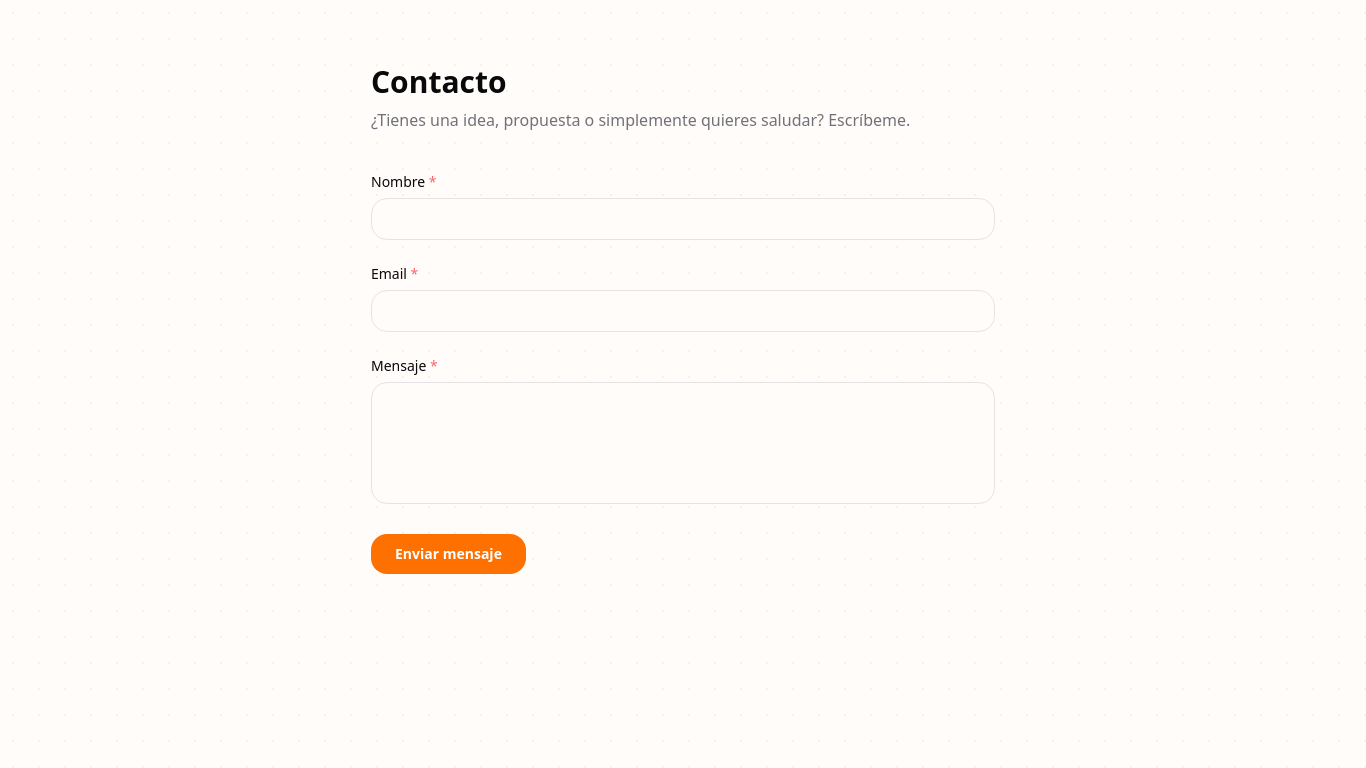
Test: Contact › shows validation error when name is too short
The width and height of the screenshot is (1366, 768).
Click the button "Enviar mensaje" at (448, 554), box [371,534,526,574]
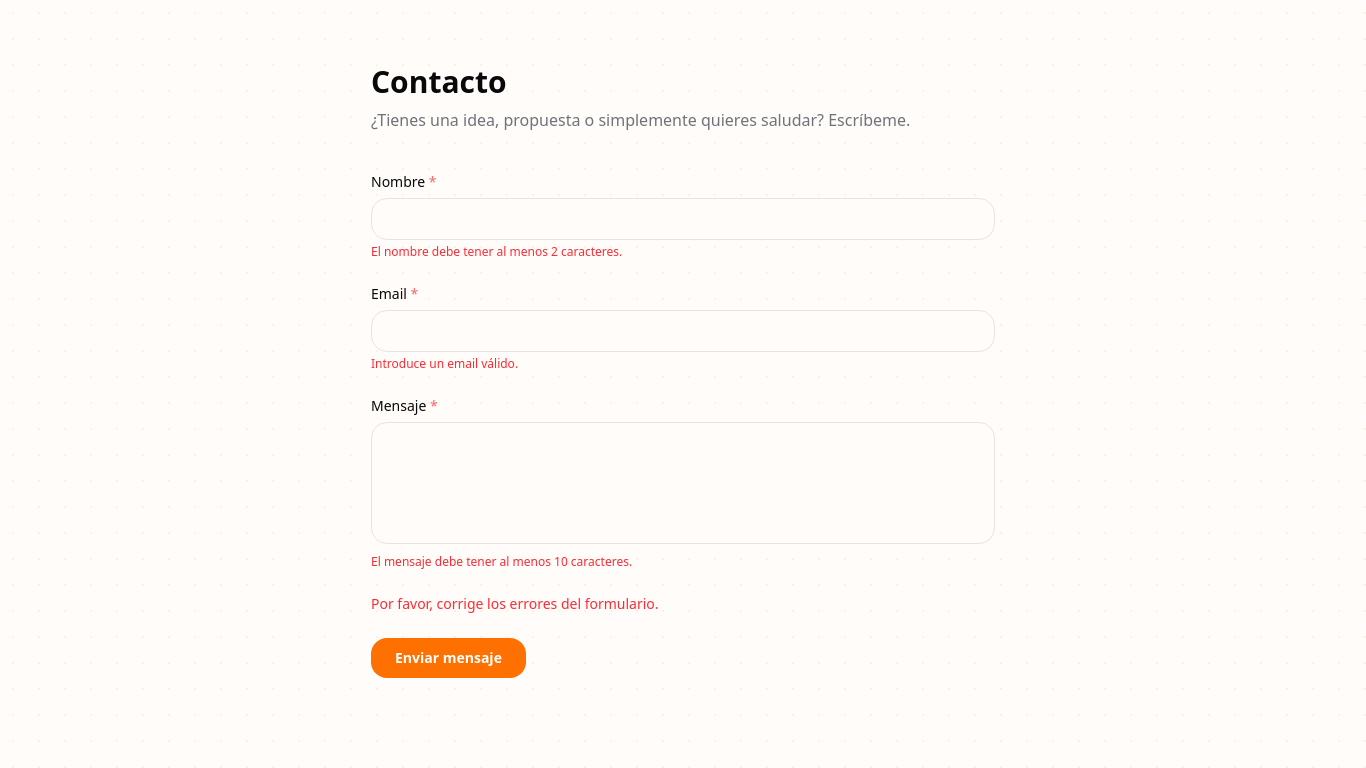
Result: the message "Por favor, corrige los errores del formulario." is shown at [371,594,658,613]
